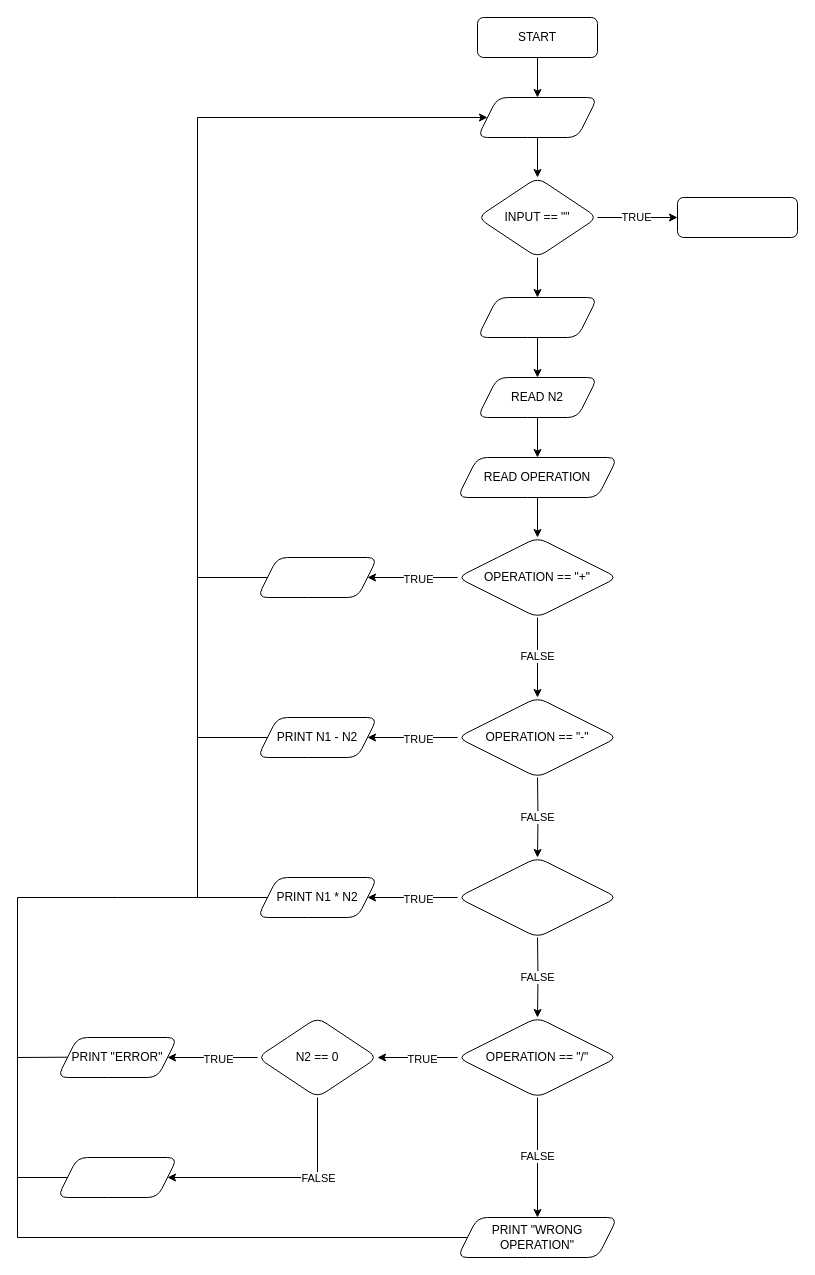
The diagram is 815 pixels wide and 1275 high, and some of its shapes have lost their labels. The box of each missing label's shape, as (x1, y1, x2, y2) in pixels:
END: (676, 196, 798, 238)
OPERATION == "*": (456, 856, 618, 938)
PRINT N1 + N2: (256, 556, 378, 598)
PRINT N1 / N2: (56, 1156, 178, 1198)
READ INPUT: (476, 96, 598, 138)
READ N1: (476, 296, 598, 338)
